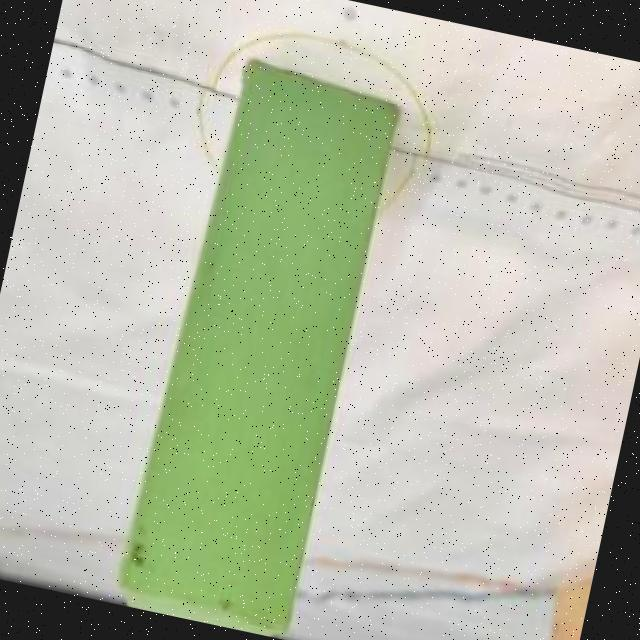greenbox: (108, 49, 405, 640)
